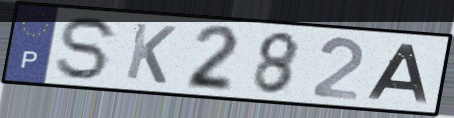2: (184, 22, 241, 94), (310, 34, 367, 103)
8: (250, 30, 303, 97)
A: (364, 41, 431, 106)
K: (122, 20, 180, 87)
S: (53, 14, 123, 82)
